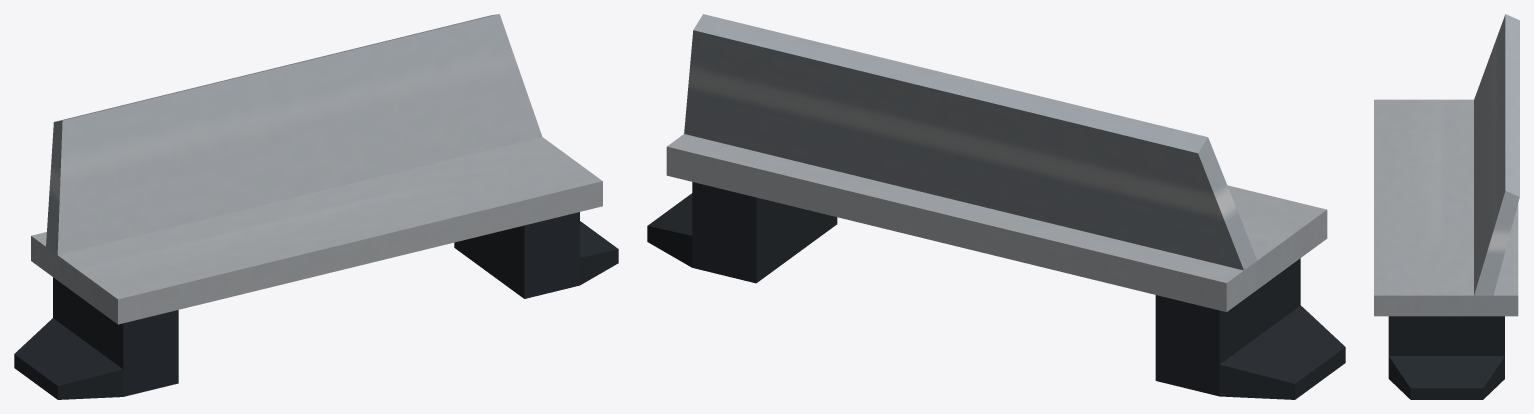
The model's file is SM_Bench.fbx.
3 renders of one model, left to right at view 1: azimuth 30°, elevation 25°; view 2: azimuth 150°, elevation 25°; view 3: azimuth 270°, elevation 25°, orthographic. The views are drawn at different scales.
Visible parts, largest first — view 1: SM_BenchAlt; view 2: SM_BenchAlt; view 3: SM_BenchAlt.
Part boxes in pixels (box(x1,y1,x2,y2)): SM_BenchAlt: box(14, 14, 618, 399); SM_BenchAlt: box(647, 14, 1345, 399); SM_BenchAlt: box(1374, 14, 1519, 399).
Bounding box in the file's own units: 245 × 66.5 × 92.73.
Materials: 1 (1 with a texture image).
